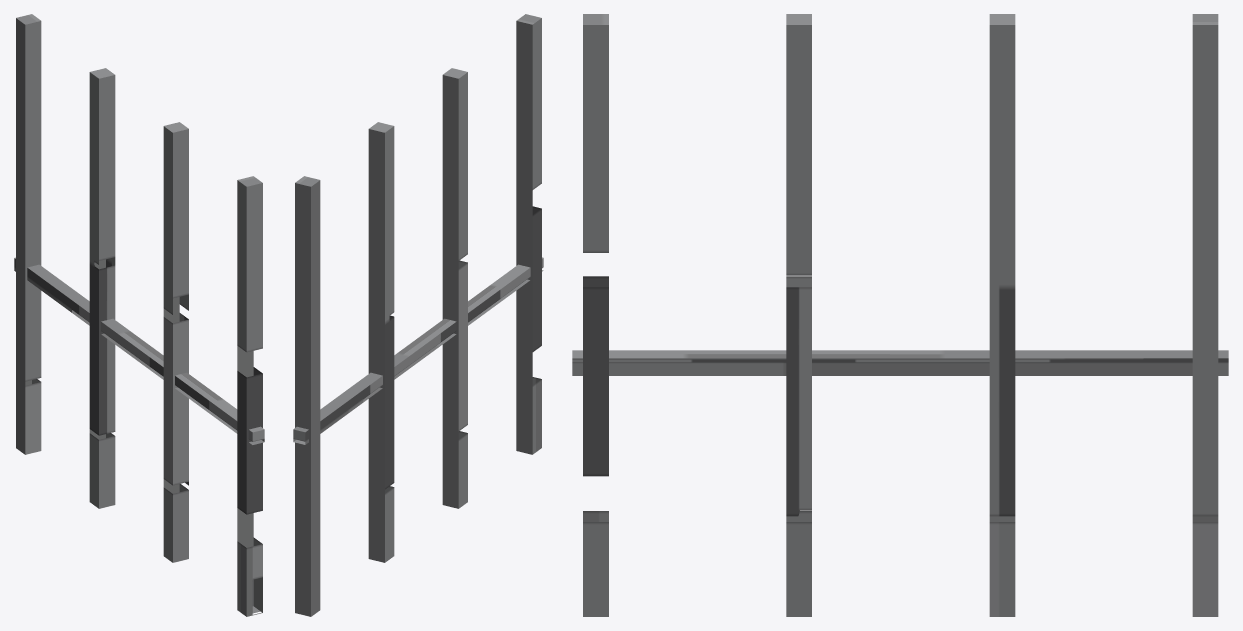
3 renders of one model, left to right at view 1: azimuth 30°, elevation 25°; view 2: azimuth 150°, elevation 25°; view 3: azimuth 270°, elevation 25°, orthographic. The views are drawn at different scales.
Size of the model in its own units: 0.04 by 1.01 by 1.02.
